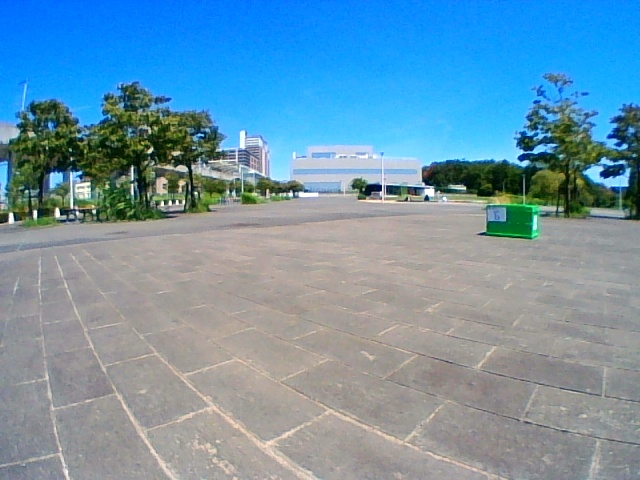green_box: (486, 204, 538, 238)
tag: (487, 207, 506, 221)
